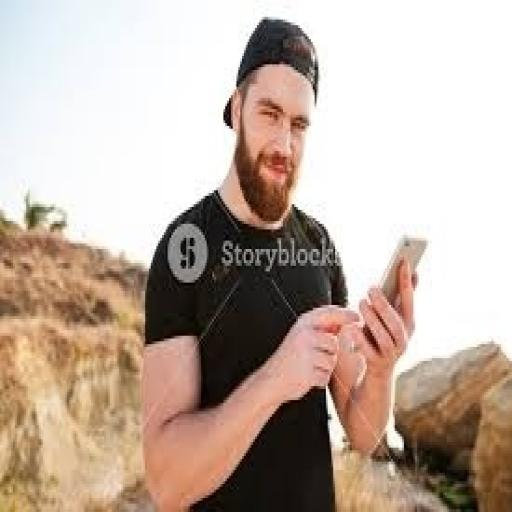texting: (138, 14, 421, 509)
